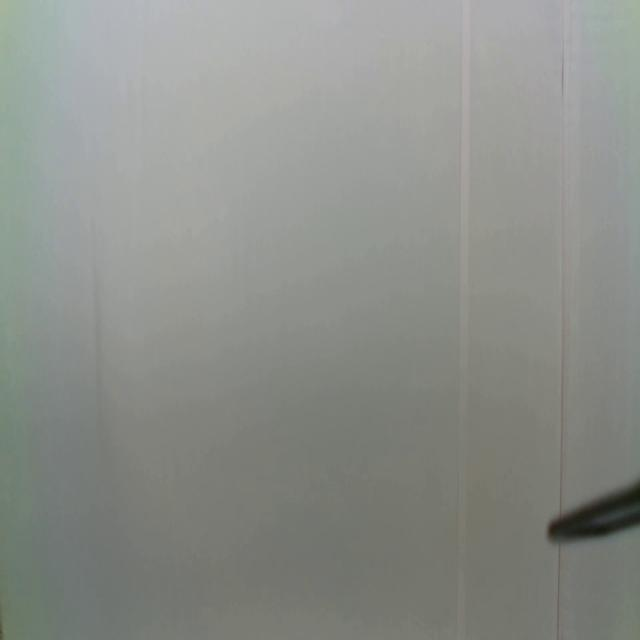crease: (558, 3, 580, 513), (456, 1, 472, 640), (555, 544, 563, 640)
